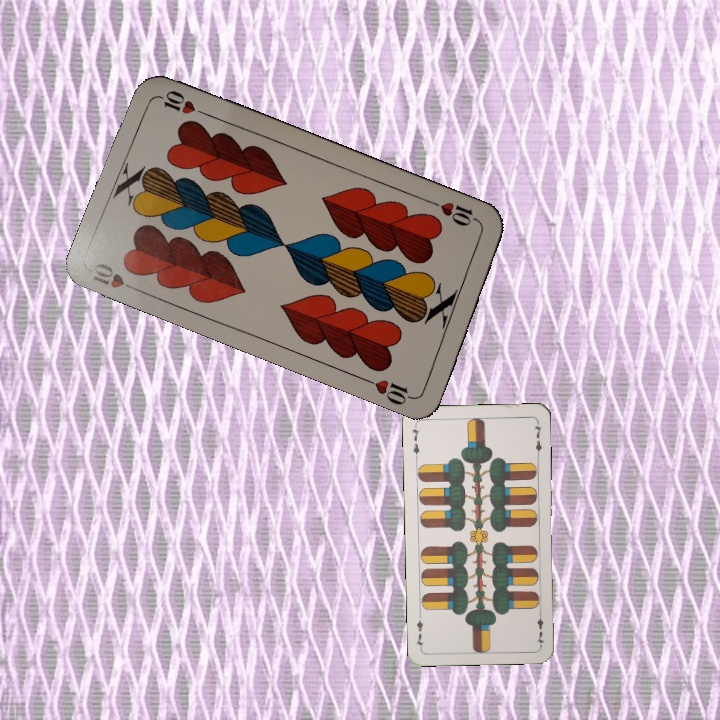E7: (408, 421, 422, 461), (533, 607, 547, 647)
H10: (88, 258, 144, 296), (427, 197, 484, 229)
